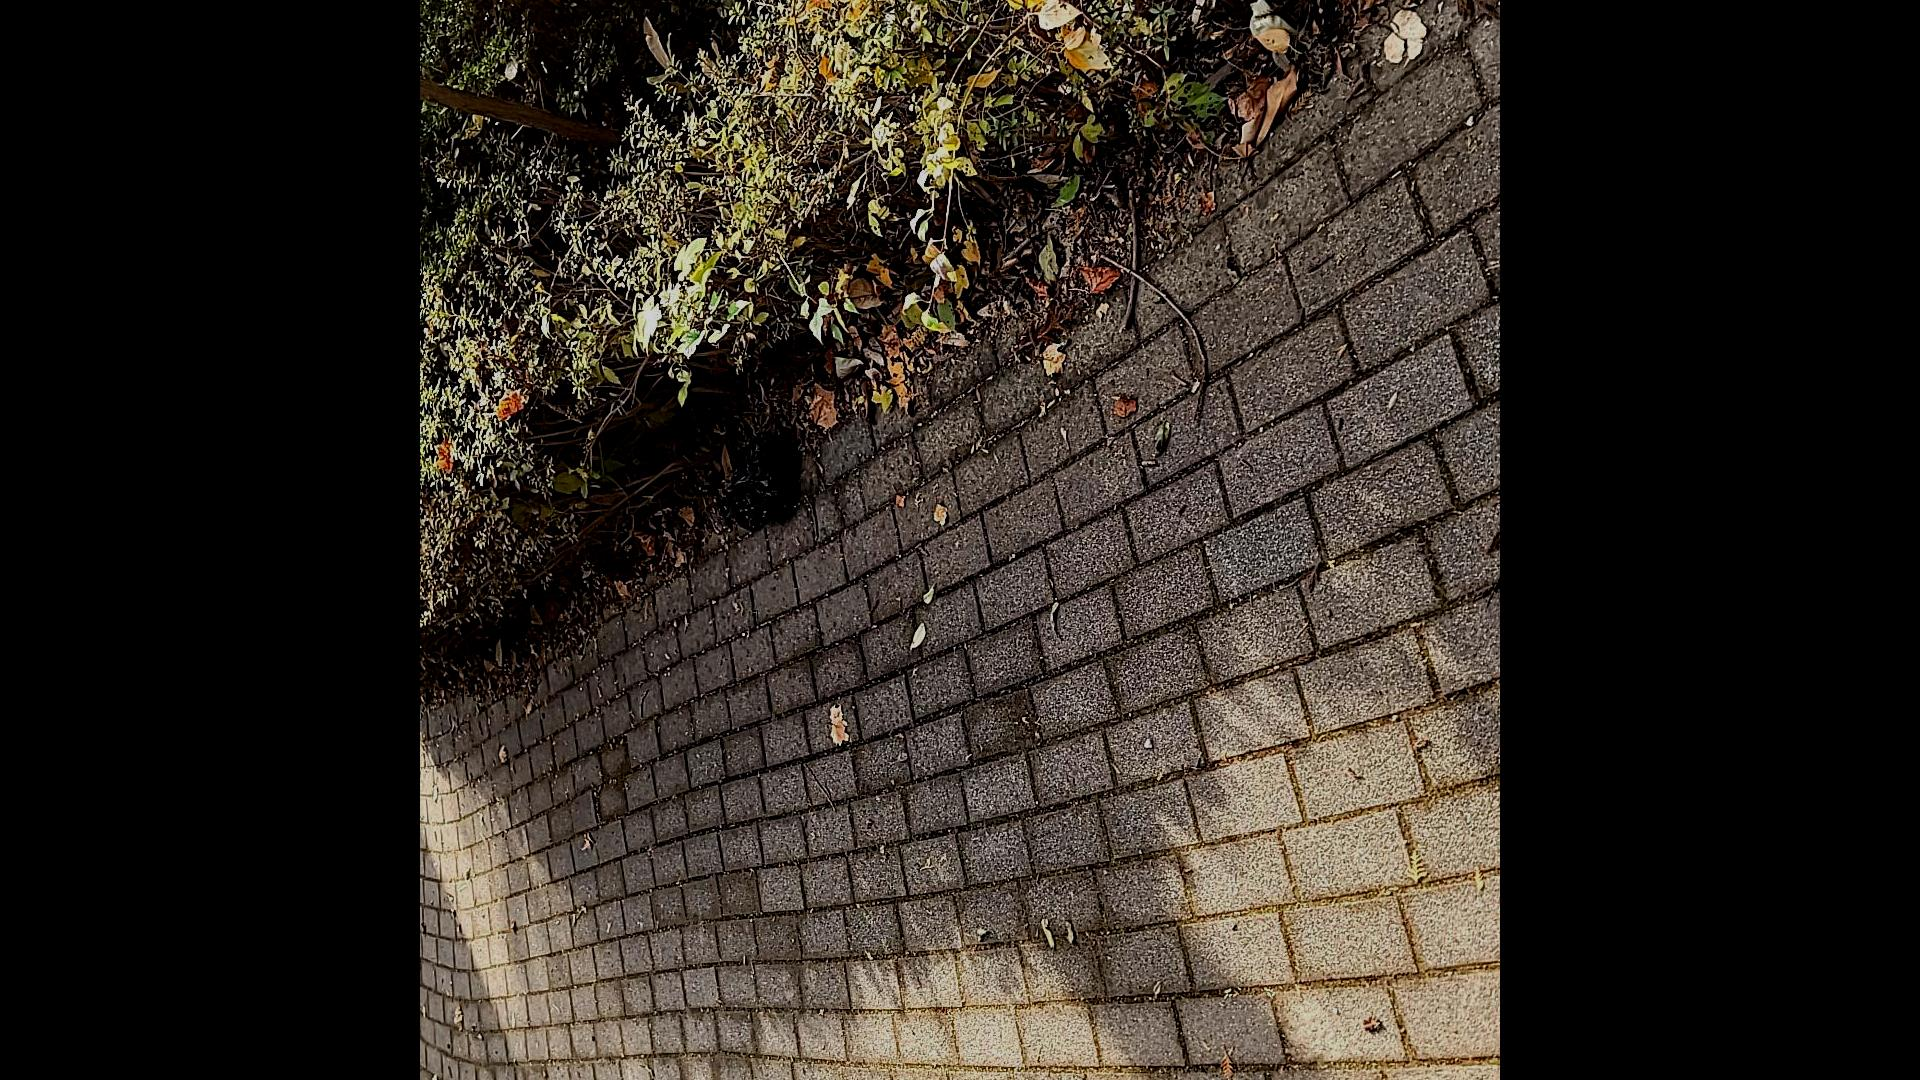black_bag: (715, 425, 804, 538)
